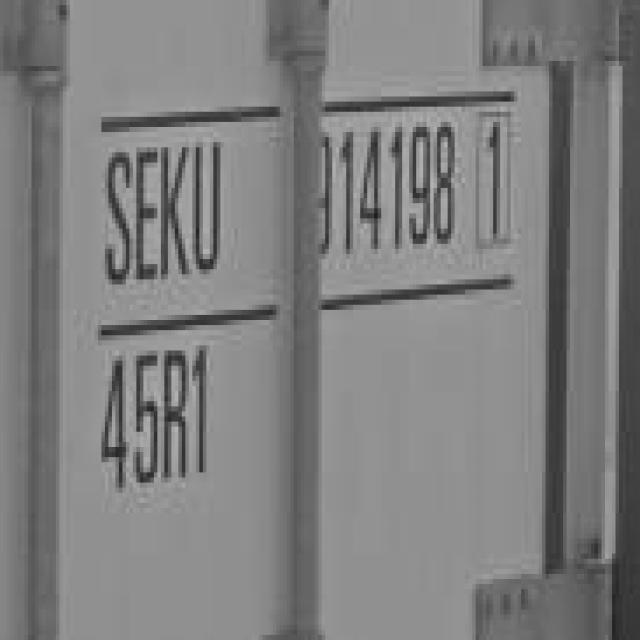dv: (472, 110, 518, 249)
owner: (92, 140, 229, 291)
serial: (310, 124, 462, 257)
size: (84, 346, 225, 495)
